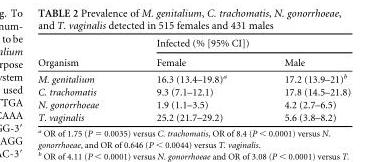table: (37, 37, 350, 122)
table column: (126, 37, 254, 122), (254, 37, 350, 122), (37, 37, 126, 122)
table column header: (37, 37, 350, 69)
table row: (37, 52, 350, 69), (37, 69, 350, 85), (37, 37, 350, 52), (37, 97, 350, 110), (37, 85, 350, 97), (37, 110, 350, 122)
table spanning cell: (126, 37, 350, 52), (37, 37, 126, 69)
